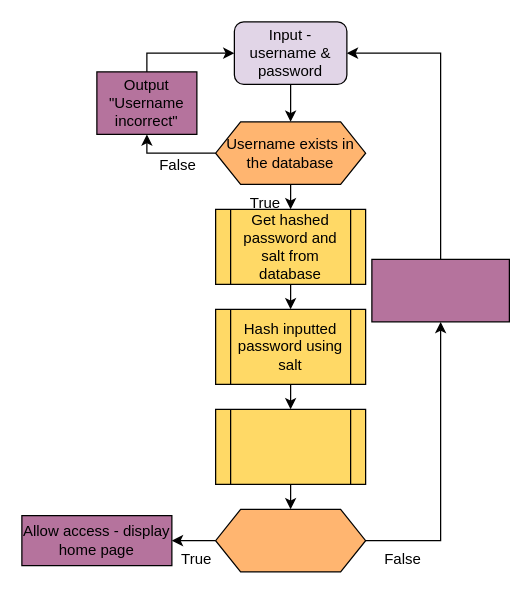
Some shapes in this 531 by 594 pixel diagram are drawn without their labels. Here are the shapes that lost their labels. From the top down, the centre of each, then its label:
(x=440, y=290): Deny access - output "Password incorrect"
(x=290, y=446): Compare inputted password with stored password
(x=290, y=540): passwords are the same
